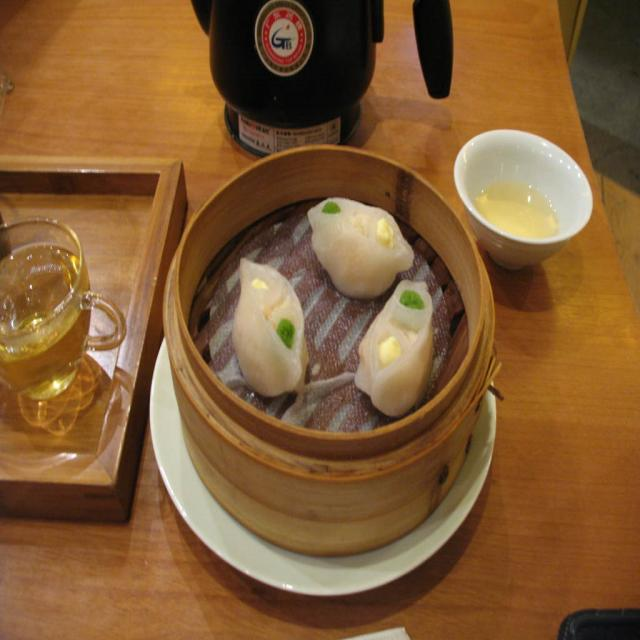Tea: (0, 242, 92, 396)
